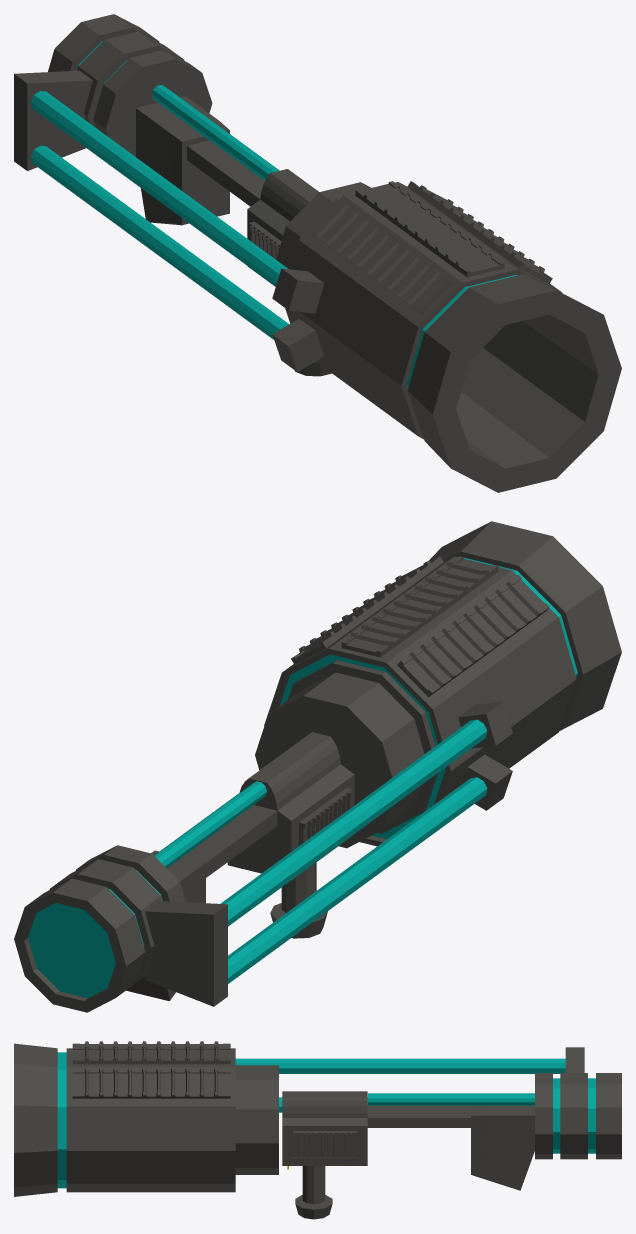
The model's file is thundergun.fbx.
3 renders of one model, top to bottom at view 1: azimuth 30°, elevation 25°; view 2: azimuth 150°, elevation 25°; view 3: azimuth 270°, elevation 25°, orthographic. The views are drawn at different scales.
Visible parts, largest first — view 1: pCube15, polySurface1, pCylinder5, pCylinder6, pCube9, polySurface2, pCube8, pCube7; view 2: pCube15, polySurface1, pCylinder5, pCylinder6, pCube9, polySurface2, pCube8, pCube7; view 3: pCube15, polySurface1, pCylinder5, polySurface2, pCube9.
Boxes of the visible parts, bbox=[...] form: pCube15: bbox=[136, 96, 621, 492]; polySurface1: bbox=[48, 14, 212, 156]; pCylinder5: bbox=[30, 91, 288, 286]; pCylinder6: bbox=[30, 145, 289, 339]; pCube9: bbox=[14, 70, 92, 170]; polySurface2: bbox=[151, 85, 279, 180]; pCube8: bbox=[272, 319, 324, 371]; pCube7: bbox=[272, 268, 324, 313]; pCube15: bbox=[126, 521, 621, 1000]; polySurface1: bbox=[14, 845, 185, 1012]; pCylinder5: bbox=[220, 719, 487, 926]; pCylinder6: bbox=[228, 777, 487, 983]; pCube9: bbox=[145, 901, 227, 1006]; polySurface2: bbox=[154, 781, 266, 867]; pCube8: bbox=[461, 754, 512, 810]; pCube7: bbox=[458, 701, 512, 748]; pCube15: bbox=[14, 1041, 534, 1219]; polySurface1: bbox=[535, 1073, 621, 1159]; pCylinder5: bbox=[235, 1058, 565, 1073]; polySurface2: bbox=[368, 1093, 534, 1105]; pCube9: bbox=[565, 1047, 584, 1072].
Size of the model in its own units: 2.5 by 2.59 by 8.89.
